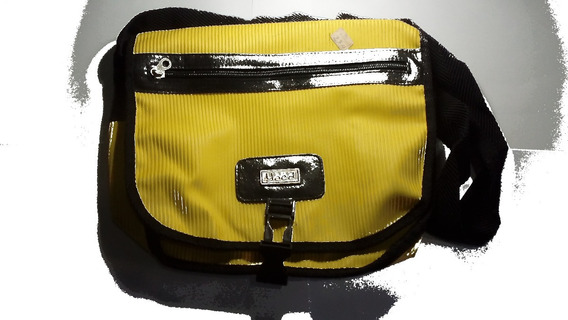cartera: (95, 6, 508, 277)
